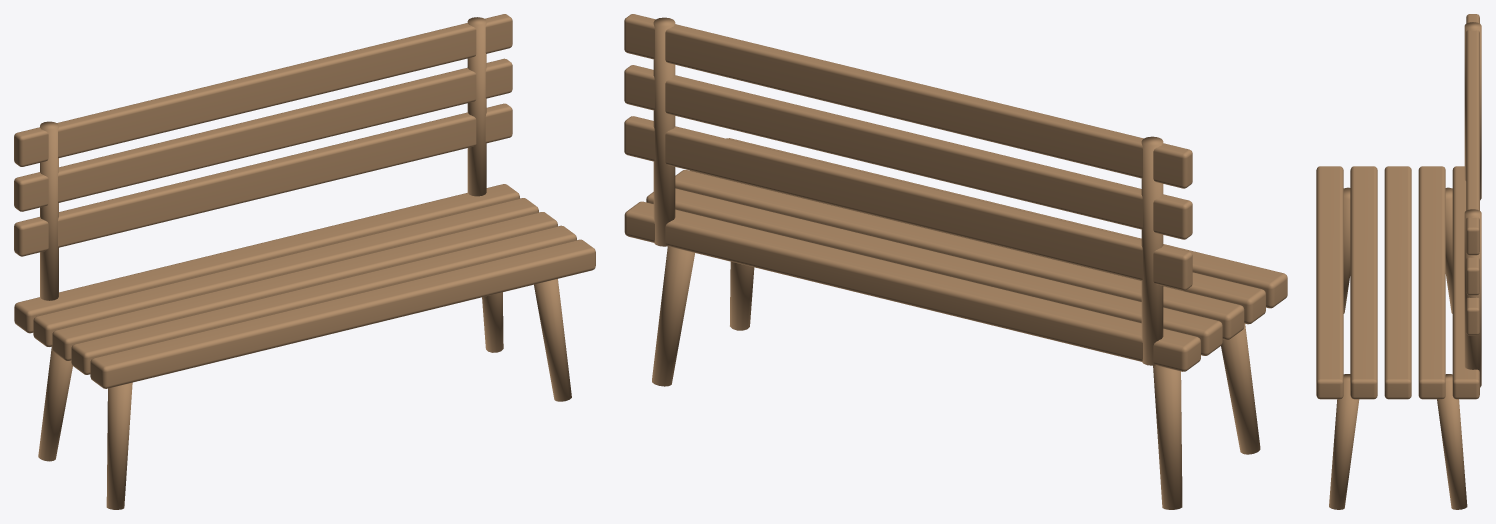
The model's file is atelier-garden-bench.glb.
3 renders of one model, left to right at view 1: azimuth 30°, elevation 25°; view 2: azimuth 150°, elevation 25°; view 3: azimuth 270°, elevation 25°, orthographic. The views are drawn at different scales.
Visible parts, largest first — view 1: legs.022; view 2: legs.022; view 3: legs.022.
Boxes of the visible parts, x1,y1,x2,y2 form: legs.022: [14, 14, 595, 509]; legs.022: [624, 14, 1287, 509]; legs.022: [1316, 14, 1481, 509].
Size of the model in its own units: 1.5 by 0.9433 by 0.485.
